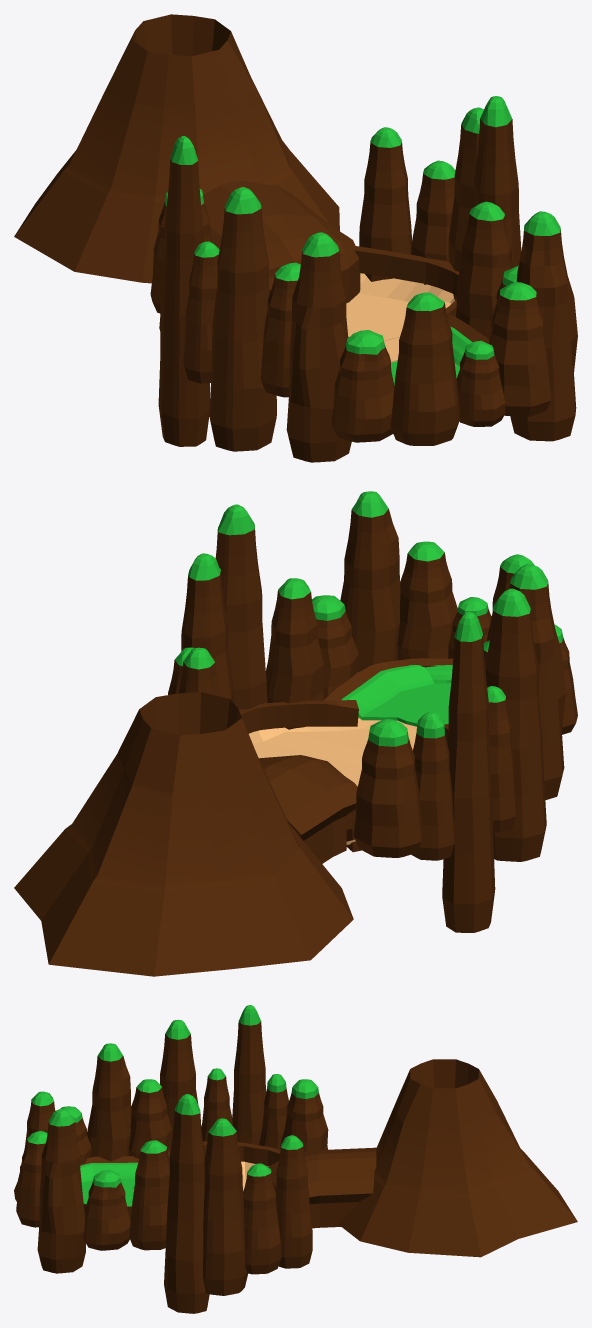
The model's file is IlhaRefeita 1.fbx.
3 views of the same model, one above another, from view 1: azimuth 30°, elevation 25°; view 2: azimuth 150°, elevation 25°; view 3: azimuth 270°, elevation 25° (orthographic). The views are drawn at different scales.
Parts seen in each view (by area): view 1: Montanhas, Vulcao, Caverna, Chao, BordaMapa, Ilha; view 2: Montanhas, Vulcao, Caverna, Ilha, Chao, BordaMapa, BordaIlha; view 3: Montanhas, Vulcao, Caverna, Ilha, BordaMapa.
Boxes of the visible parts, <box> form: Montanhas: <box>150,96,577,462</box>; Vulcao: <box>14,14,339,283</box>; Caverna: <box>203,180,360,303</box>; Chao: <box>346,273,454,362</box>; BordaMapa: <box>354,246,459,316</box>; Ilha: <box>391,326,472,385</box>; Montanhas: <box>168,491,577,932</box>; Vulcao: <box>14,692,353,976</box>; Caverna: <box>259,755,361,863</box>; Ilha: <box>341,665,452,726</box>; Chao: <box>249,717,416,844</box>; BordaMapa: <box>239,700,448,829</box>; BordaIlha: <box>324,658,453,700</box>; Montanhas: <box>14,1005,328,1313</box>; Vulcao: <box>338,1059,577,1257</box>; Caverna: <box>268,1147,376,1228</box>; Ilha: <box>80,1162,138,1206</box>; BordaMapa: <box>168,1141,280,1165</box>.
Bounding box in the file's own units: 37118 × 33393 × 77868.
